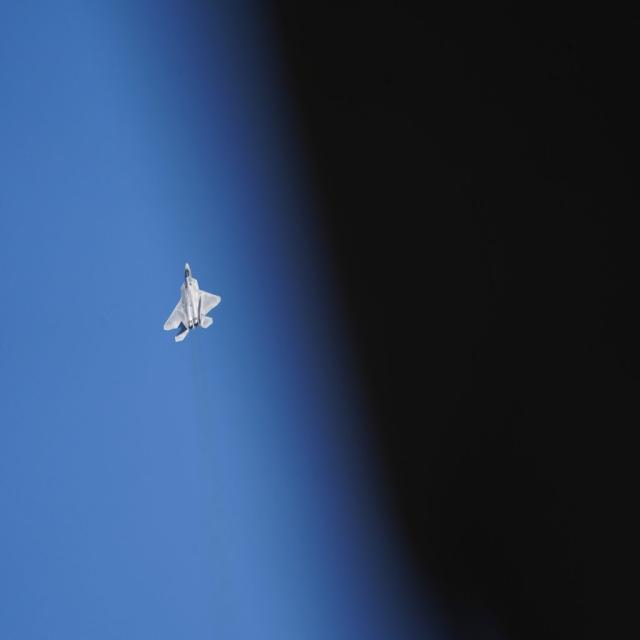MIL_Plane: (163, 262, 221, 342)
